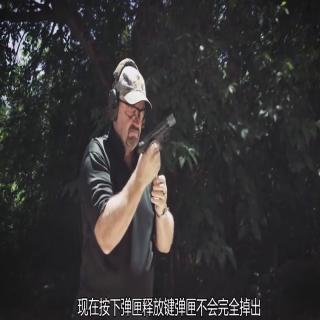gun: (133, 110, 179, 204)
